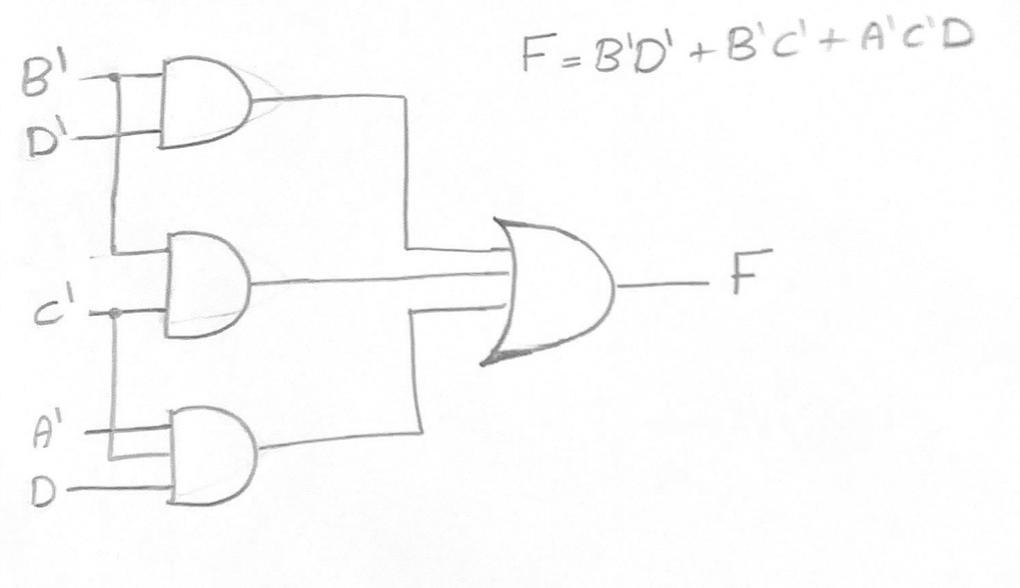AND: (140, 48, 283, 181), (149, 396, 280, 518), (152, 221, 265, 350)
OR: (470, 197, 646, 406)
